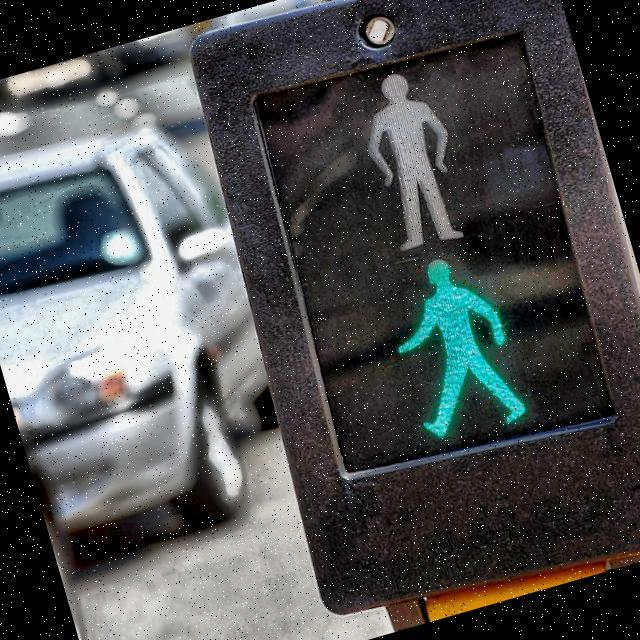green_light: (368, 238, 536, 452)
